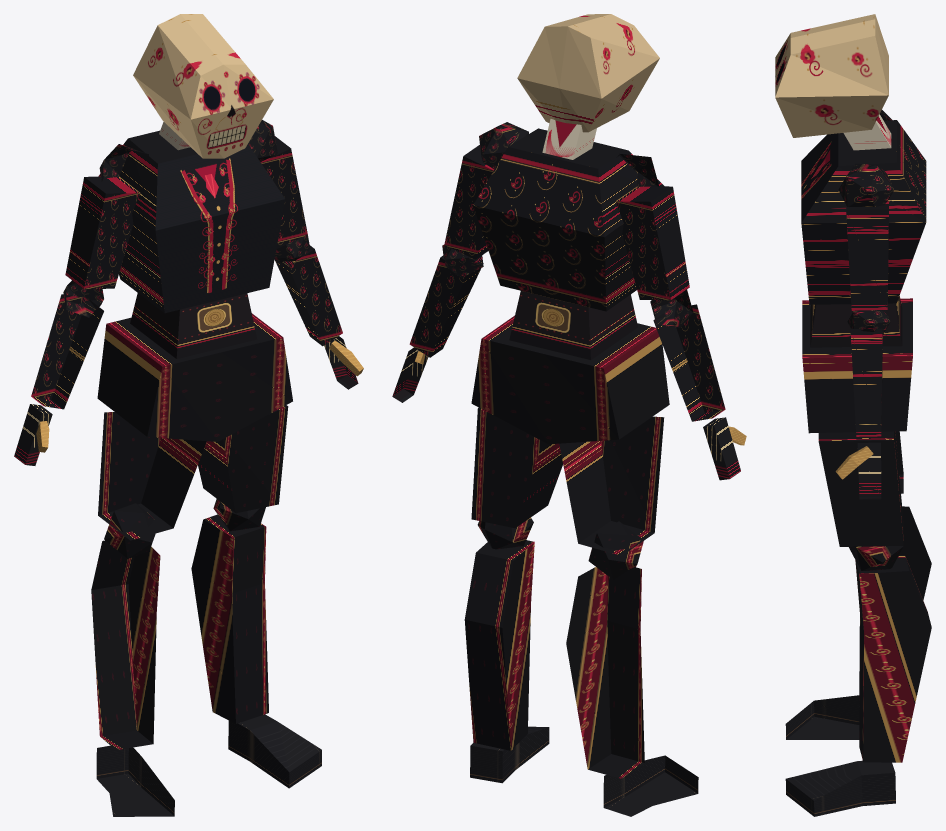
Rendered from Fermin.obj.
3 renders of one model, left to right at view 1: azimuth 30°, elevation 25°; view 2: azimuth 150°, elevation 25°; view 3: azimuth 270°, elevation 25°, orthographic. The views are drawn at different scales.
Parts seen in each view (by area): view 1: Cube_002_color_torso, Cube_004_color_pants, Cube_006_color_pants, Cube_017_color_pants, Cube_016_color_pants, Cube_color_skullside, Cube_005_color_pants, Cube_012_color_fabric, Cube_color_skullface, Cube_002_color_fabric, Cube_003_color_belt, Cube_013_color_fabric (+11 smaller); view 2: Cube_002_color_fabric, Cube_004_color_pants, Cube_017_color_pants, Cube_006_color_pants, Cube_color_skullside, Cube_016_color_pants, Cube_005_color_pants, Cube_012_color_fabric, Cube_003_color_belt, Cube_013_color_fabric, Cube_018_color_boots, Cube_009_color_fabric (+11 smaller); view 3: Cube_006_color_pants, Cube_002_color_fabric, Cube_color_skullside, Cube_004_color_pants, Cube_005_color_pants, Cube_007_color_boots, Cube_008_color_fabric, Cube_009_color_fabric, Cube_018_color_boots, Cube_003_color_belt, Cube_002_color_torso, Icosphere_001_color_fabric (+7 smaller).
Part boxes in pixels (<box>): Cube_002_color_torso: <box>155,144,285,313</box>; Cube_004_color_pants: <box>97,313,292,441</box>; Cube_006_color_pants: <box>191,514,268,723</box>; Cube_017_color_pants: <box>91,540,160,749</box>; Cube_016_color_pants: <box>98,412,206,540</box>; Cube_color_skullside: <box>133,14,245,157</box>; Cube_005_color_pants: <box>198,405,288,513</box>; Cube_012_color_fabric: <box>65,176,140,289</box>; Cube_color_skullface: <box>190,64,273,158</box>; Cube_002_color_fabric: <box>98,130,197,312</box>; Cube_003_color_belt: <box>130,293,257,358</box>; Cube_013_color_fabric: <box>31,294,103,409</box>; Cube_002_color_fabric: <box>473,128,664,311</box>; Cube_004_color_pants: <box>471,315,669,444</box>; Cube_017_color_pants: <box>566,567,644,778</box>; Cube_006_color_pants: <box>464,540,534,750</box>; Cube_color_skullside: <box>517,14,659,132</box>; Cube_016_color_pants: <box>559,416,664,555</box>; Cube_005_color_pants: <box>471,407,562,528</box>; Cube_012_color_fabric: <box>615,186,689,300</box>; Cube_003_color_belt: <box>509,291,637,359</box>; Cube_013_color_fabric: <box>653,304,725,421</box>; Cube_018_color_boots: <box>603,755,698,816</box>; Cube_009_color_fabric: <box>409,255,483,357</box>; Cube_006_color_pants: <box>855,555,931,762</box>; Cube_002_color_fabric: <box>801,120,926,304</box>; Cube_color_skullside: <box>775,14,888,137</box>; Cube_004_color_pants: <box>802,298,912,433</box>; Cube_005_color_pants: <box>818,431,903,546</box>; Cube_007_color_boots: <box>785,760,895,816</box>; Cube_008_color_fabric: <box>846,200,889,310</box>; Cube_009_color_fabric: <box>850,328,882,436</box>; Cube_018_color_boots: <box>785,695,859,739</box>; Cube_003_color_belt: <box>810,296,902,347</box>; Cube_002_color_torso: <box>801,133,838,222</box>; Icosphere_001_color_fabric: <box>838,163,894,206</box>.
Bounding box in the file's own units: 4.08 × 8.85 × 1.69.
10 materials, 10 textured.
